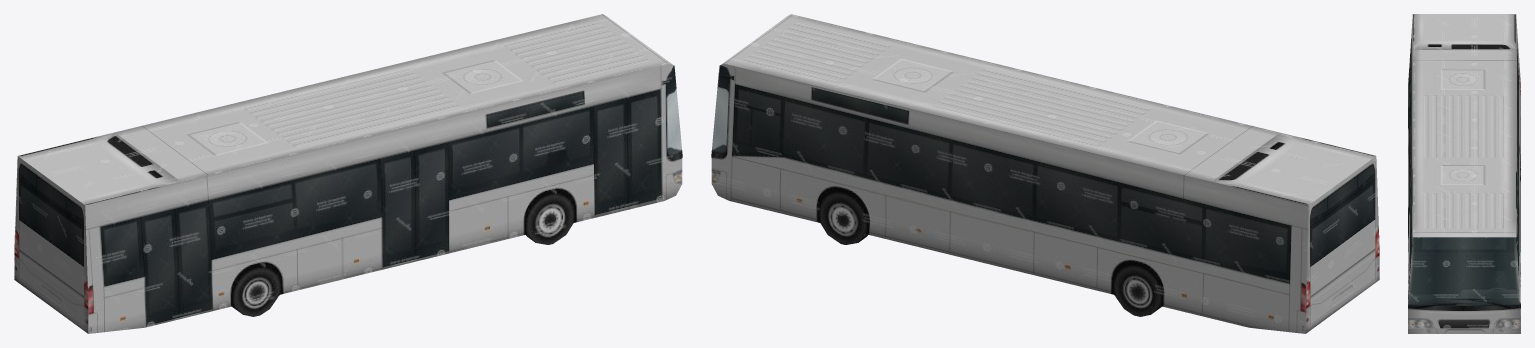
Rendered from transit-bus-low-poly-2.glb.
3 views of the same model, side by side, from view 1: azimuth 30°, elevation 25°; view 2: azimuth 150°, elevation 25°; view 3: azimuth 270°, elevation 25° (orthographic). The views are drawn at different scales.
Visible parts, largest first — view 1: Bus; view 2: Bus; view 3: Bus.
Part boxes in pixels (x1,y1,x2,y2): Bus: [14, 14, 682, 333]; Bus: [711, 14, 1379, 333]; Bus: [1408, 14, 1520, 333].
Size of the model in its own units: 4.96 by 1.19 by 1.07.
1 material, 1 textured.
